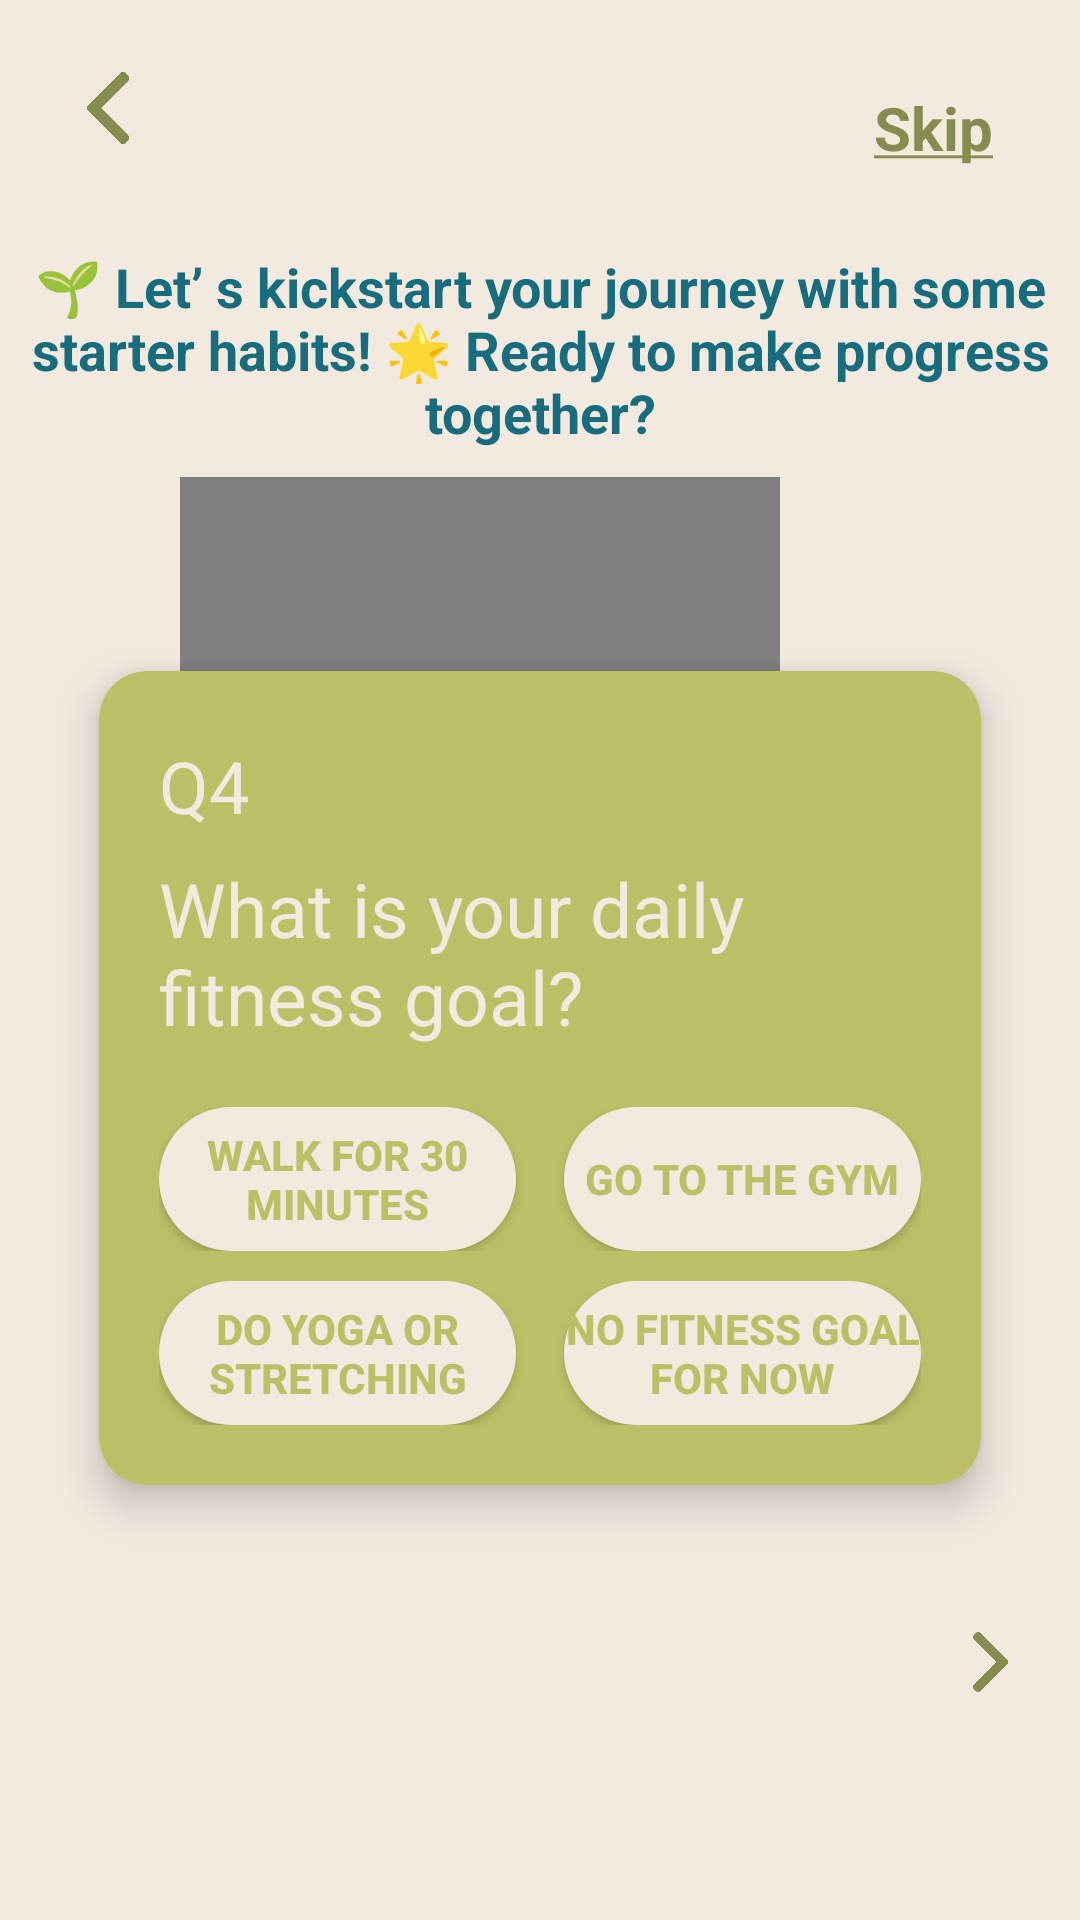

Point at icon controls on the screen. Image size 1080*1920, points as (x=x, y=y).
back arrow: (x=108, y=108)
Continue: (x=990, y=1662)
